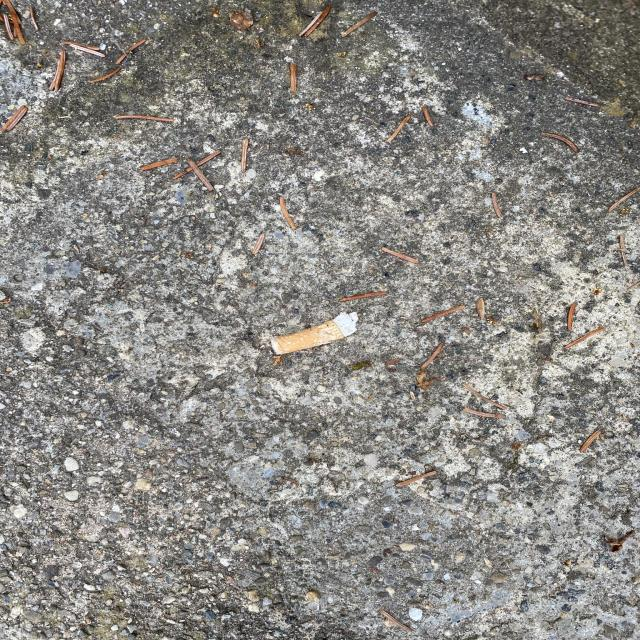other waste: (270, 310, 359, 356)
